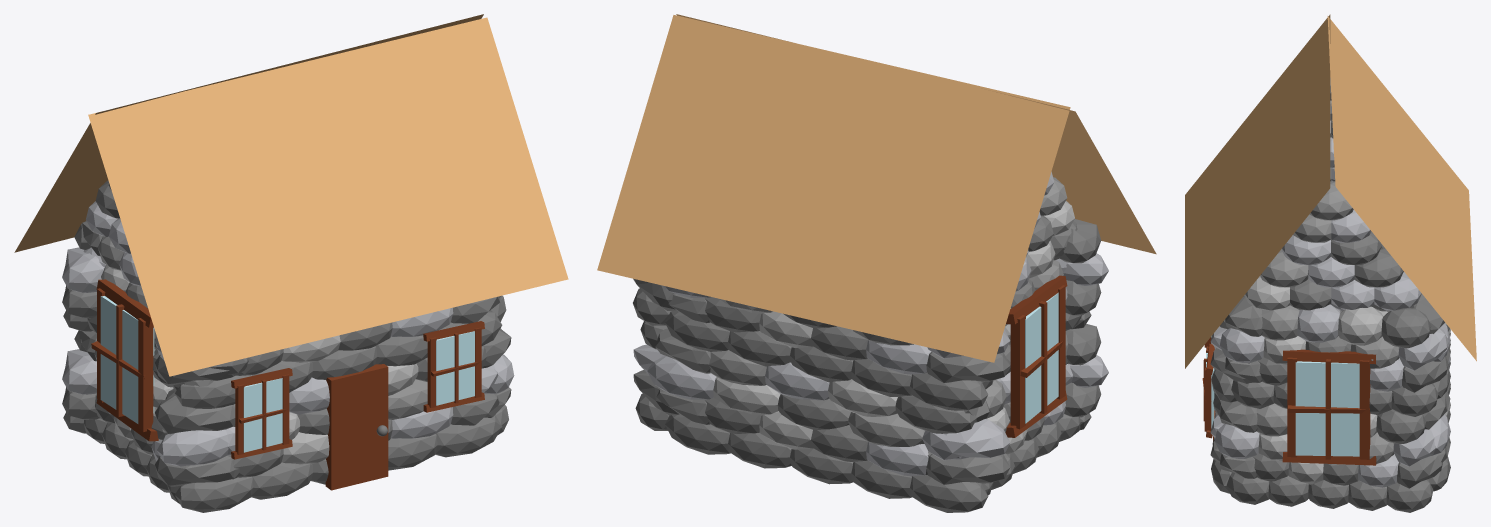
File: Cottage.fbx
The picture shows the model from 3 angles, left to right: view 1: azimuth 30°, elevation 25°; view 2: azimuth 150°, elevation 25°; view 3: azimuth 270°, elevation 25°; orthographic projection. The views are drawn at different scales.
Parts seen in each view (by area): view 1: Plane, Icosphere.002, Icosphere.003, Cube.001, Plane.001, Cube.008, Icosphere.007, Cube.009, Icosphere.006, Icosphere.001, Cube.007, Icosphere.008 (+5 smaller); view 2: Plane.001, Icosphere.008, Icosphere.001, Plane, Cube.008, Icosphere.007, Icosphere.003, Icosphere.002, Cube.009, Icosphere.006, Icosphere.004, Icosphere.005 (+1 smaller); view 3: Plane, Plane.001, Icosphere.005, Icosphere.004, Icosphere.013, Cube.002, Cube.005, Icosphere.008, Icosphere.003, Icosphere, Icosphere.001, Icosphere.002 (+1 smaller).
Boxes of the visible parts, x1,y1,x2,y2 form: Plane: [88, 17, 568, 376]; Icosphere.002: [155, 346, 502, 512]; Icosphere.003: [155, 295, 502, 408]; Cube.001: [325, 364, 388, 490]; Plane.001: [14, 14, 483, 252]; Cube.008: [91, 279, 158, 441]; Icosphere.007: [79, 330, 239, 503]; Cube.009: [100, 296, 154, 423]; Icosphere.006: [82, 221, 248, 392]; Icosphere.001: [62, 221, 104, 331]; Cube.007: [231, 368, 292, 459]; Icosphere.008: [62, 330, 100, 433]; Plane.001: [597, 15, 1070, 362]; Icosphere.008: [647, 328, 1010, 512]; Icosphere.001: [661, 285, 1010, 410]; Plane: [676, 14, 1156, 254]; Cube.008: [1005, 275, 1067, 437]; Icosphere.007: [925, 334, 1080, 495]; Icosphere.003: [1060, 219, 1108, 329]; Icosphere.002: [1064, 324, 1108, 429]; Cube.009: [1025, 292, 1058, 423]; Icosphere.006: [982, 221, 1081, 389]; Icosphere.004: [633, 321, 679, 430]; Icosphere.005: [633, 278, 676, 325]; Plane: [1185, 14, 1330, 368]; Plane.001: [1327, 16, 1476, 361]; Icosphere.005: [1219, 295, 1448, 416]; Icosphere.004: [1214, 401, 1442, 512]; Icosphere.013: [1260, 181, 1421, 310]; Cube.002: [1295, 361, 1359, 456]; Cube.005: [1282, 349, 1376, 465]; Icosphere.008: [1423, 328, 1450, 491]; Icosphere.003: [1210, 320, 1251, 402]; Icosphere: [1244, 276, 1289, 310]; Icosphere.001: [1410, 294, 1450, 398]; Icosphere.002: [1210, 392, 1231, 493].
Size of the model in its own units: 1012 by 913 by 717.
